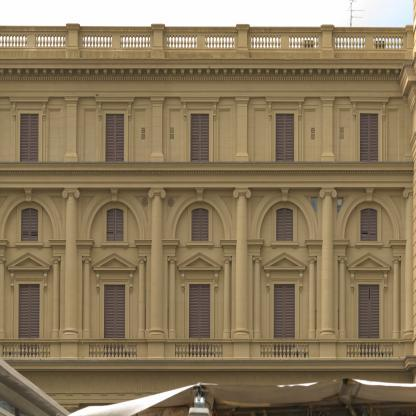Balcony: (0, 27, 414, 60), (3, 339, 51, 357), (89, 339, 137, 357), (175, 339, 223, 357), (261, 339, 309, 357), (347, 339, 393, 357)
Building Outline: (0, 0, 416, 416)
Cornice: (5, 251, 51, 293), (346, 251, 392, 293), (91, 251, 137, 293), (177, 251, 222, 293), (262, 251, 307, 293), (9, 96, 50, 121), (349, 96, 390, 121), (94, 96, 135, 121), (179, 96, 220, 121), (265, 96, 306, 121), (23, 188, 34, 203), (364, 188, 375, 203), (109, 188, 120, 203), (195, 188, 205, 203), (280, 188, 290, 203)
Door: (104, 284, 125, 357), (189, 284, 210, 357), (274, 284, 295, 357), (359, 284, 379, 357), (19, 284, 39, 357)
Facade: (0, 23, 414, 416)
Floor: (1, 274, 415, 357), (1, 182, 415, 265), (1, 366, 415, 416)
Floor Slab: (1, 175, 415, 183), (1, 357, 415, 365), (1, 265, 415, 273)
Molding: (0, 361, 413, 403), (0, 59, 413, 79), (0, 166, 413, 183)
Pillar: (319, 187, 337, 339), (62, 187, 80, 339), (233, 187, 251, 339), (148, 187, 166, 339), (403, 187, 414, 339), (149, 95, 166, 162), (234, 95, 251, 162), (319, 95, 336, 162), (64, 95, 80, 162), (137, 256, 147, 339), (51, 256, 61, 339), (338, 256, 347, 339), (392, 256, 401, 339), (82, 256, 91, 339), (168, 256, 177, 339), (223, 256, 232, 339), (253, 256, 262, 339), (308, 256, 317, 339), (403, 95, 413, 162), (0, 256, 6, 339)
Sill: (270, 241, 299, 249), (100, 241, 129, 249), (355, 241, 383, 249), (15, 241, 43, 249), (186, 241, 214, 249)
Top Floor: (1, 80, 415, 176)
Window: (360, 114, 378, 162), (21, 114, 39, 162), (106, 114, 124, 162), (191, 114, 209, 162), (276, 114, 294, 162), (191, 208, 209, 241), (21, 208, 38, 241), (360, 208, 377, 241), (107, 208, 124, 241), (276, 208, 293, 241)
